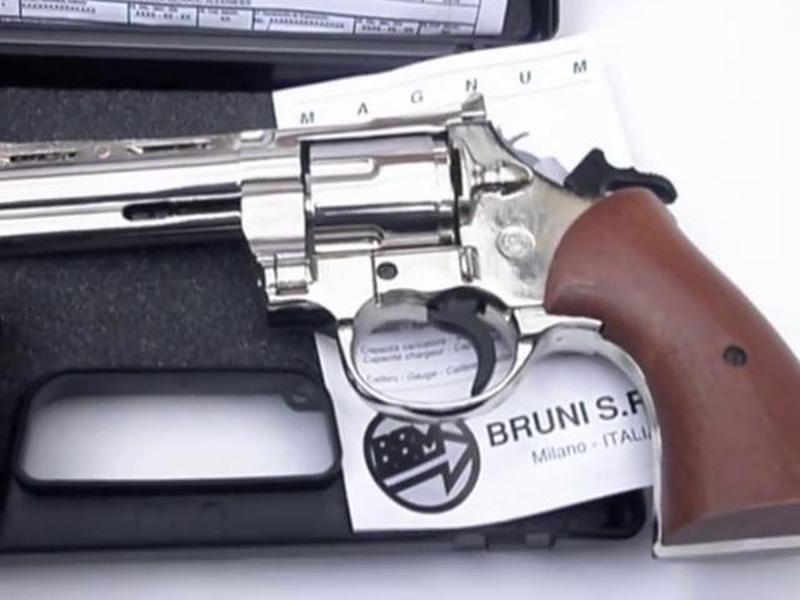Revolver: (28, 84, 777, 510)
